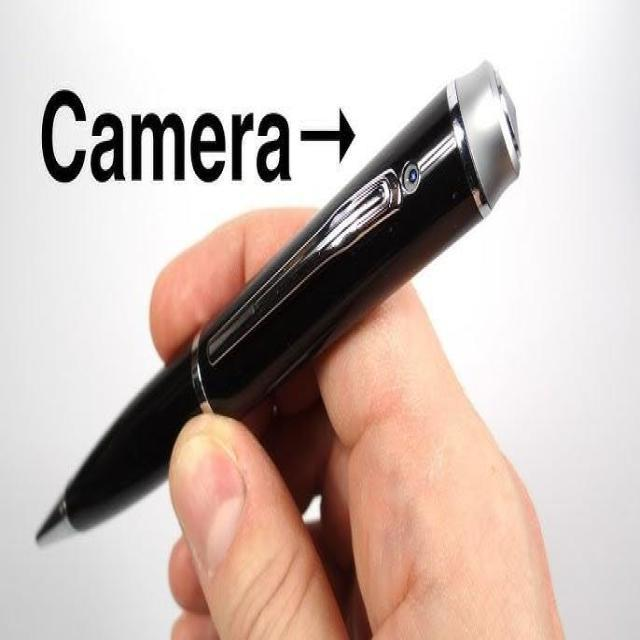hidden camera: (396, 146, 425, 205)
